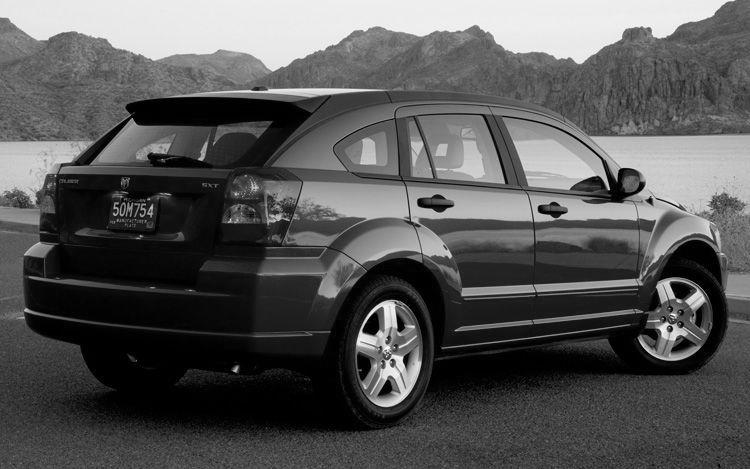car: (20, 79, 734, 431)
